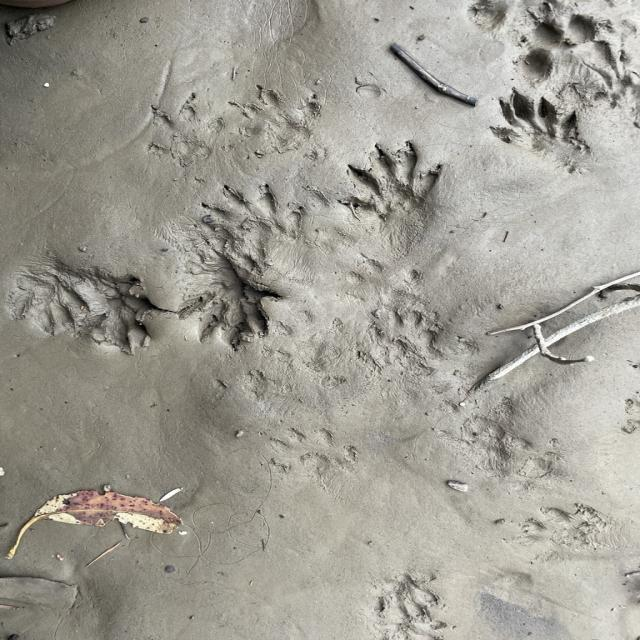mustelid: (347, 138, 450, 232), (194, 184, 310, 264), (490, 86, 586, 170), (184, 264, 280, 344), (28, 258, 125, 336), (243, 85, 325, 156), (149, 104, 229, 168), (371, 567, 450, 622)
